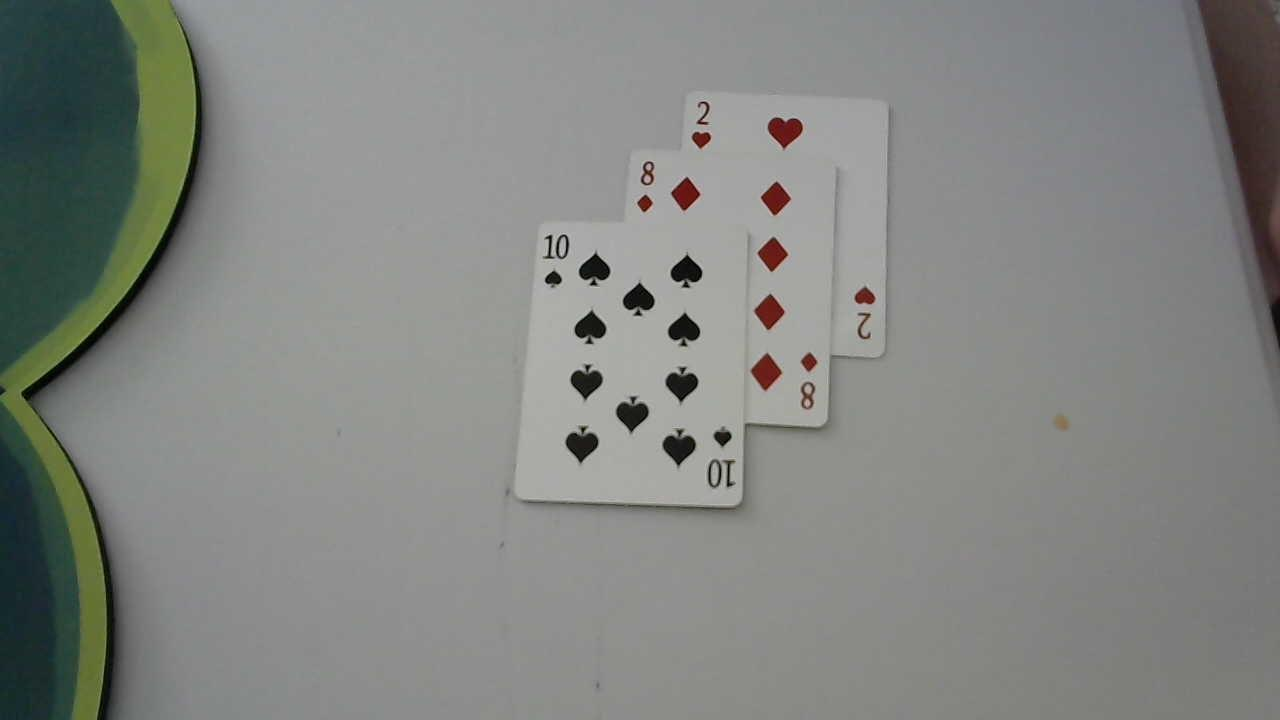10S: (534, 225, 575, 295), (706, 420, 741, 492)
2H: (850, 279, 881, 343), (691, 96, 716, 152)
8D: (795, 345, 822, 415), (635, 154, 662, 216)
